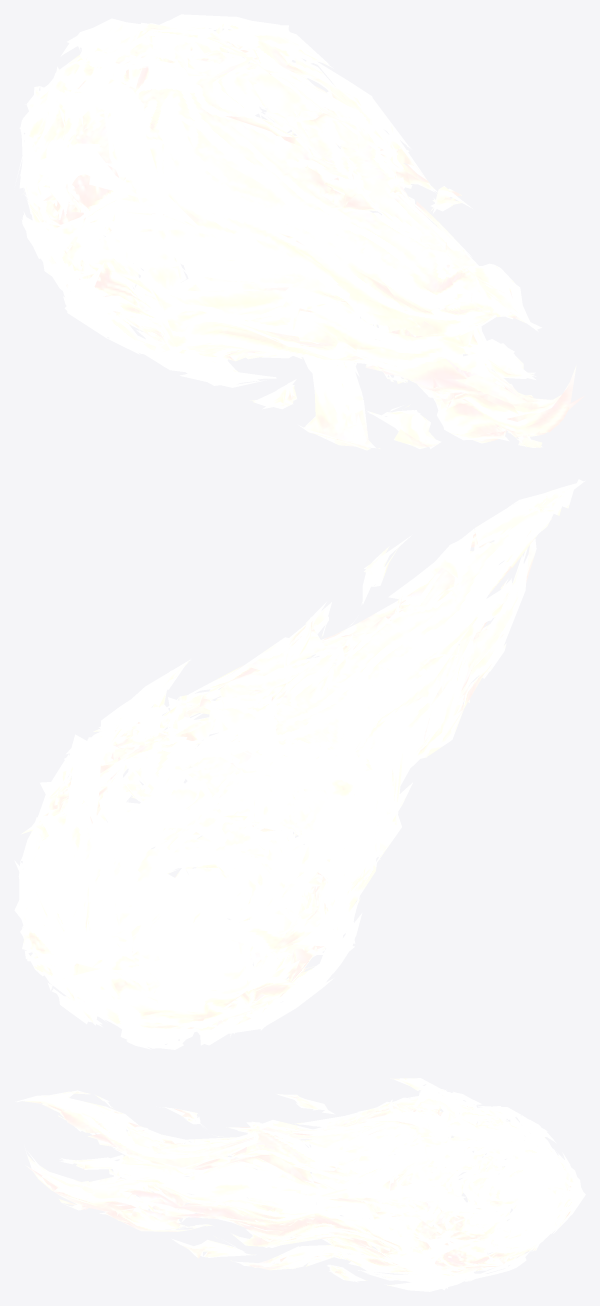
The model's file is dragon-fireball.high.glb.
The picture shows the model from 3 angles, top to bottom: view 1: azimuth 30°, elevation 25°; view 2: azimuth 150°, elevation 25°; view 3: azimuth 270°, elevation 25°; orthographic projection. The views are drawn at different scales.
Visible parts, largest first — view 1: dragon-fireball_mesh; view 2: dragon-fireball_mesh; view 3: dragon-fireball_mesh.
Boxes of the visible parts, <box> form: dragon-fireball_mesh: <box>15,14,584,450</box>; dragon-fireball_mesh: <box>14,479,585,1049</box>; dragon-fireball_mesh: <box>15,1078,585,1291</box>.
Bounding box in the file's own units: 0.7214 × 0.745 × 1.97.
1 material, 1 textured.
